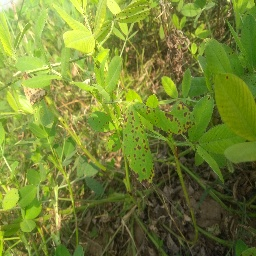GroundNut_Leaf: (215, 72, 256, 139), (125, 106, 153, 180), (185, 93, 214, 140), (62, 28, 96, 52), (205, 39, 230, 71), (223, 140, 256, 160), (105, 56, 123, 92), (85, 112, 118, 130), (114, 8, 151, 23), (27, 163, 47, 182), (78, 160, 98, 179), (20, 183, 37, 204), (3, 189, 18, 211), (38, 109, 54, 129), (25, 204, 41, 220), (20, 221, 37, 232)
